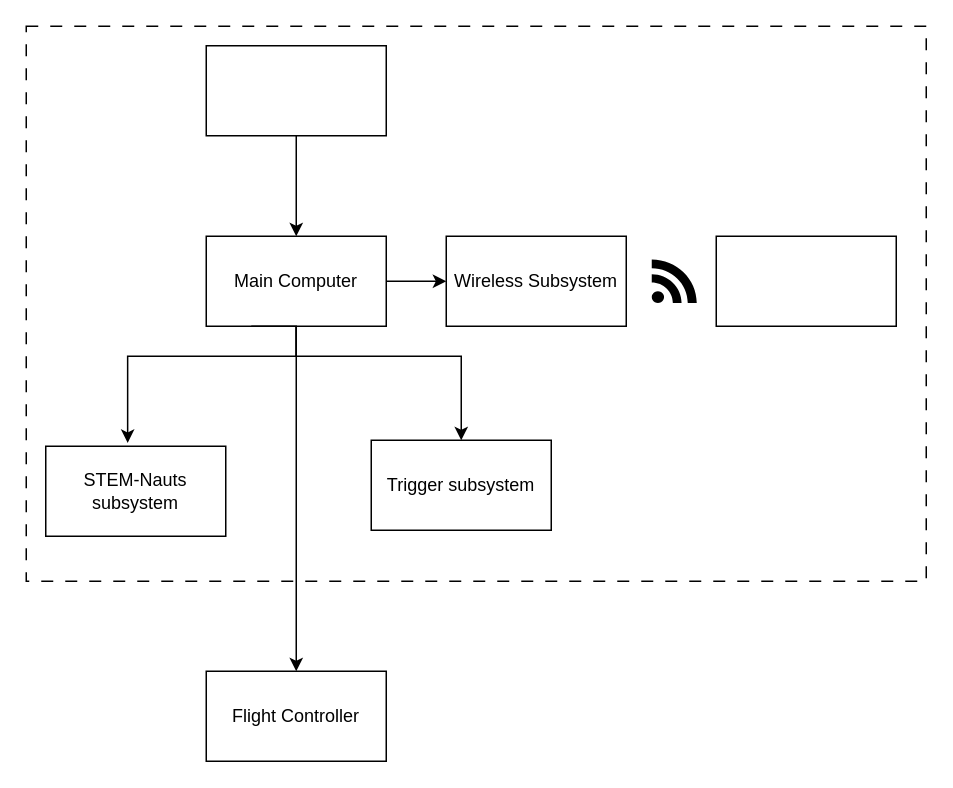
Some shapes in this 953 by 788 pixel diagram are drawn without their labels. Each missing label, with the box of its shape:
Ground Computer: (715, 235, 896, 326)
Power System: (205, 44, 386, 136)
